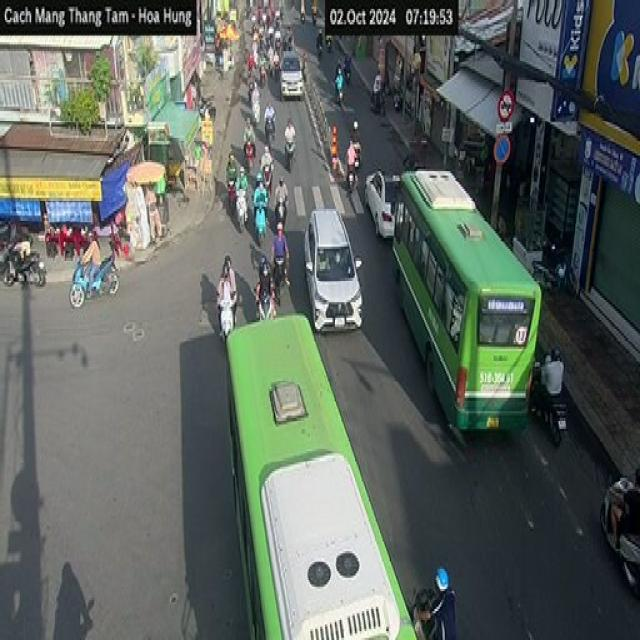bus: (222, 309, 420, 635), (390, 167, 541, 433)
car: (304, 207, 362, 333), (364, 169, 400, 240), (278, 49, 304, 98)
motorcycle: (528, 360, 568, 447), (69, 251, 119, 307)
person: (81, 231, 101, 296)
